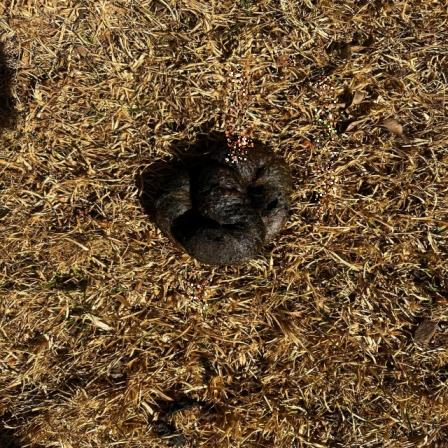dog-poop: (152, 128, 296, 259)
